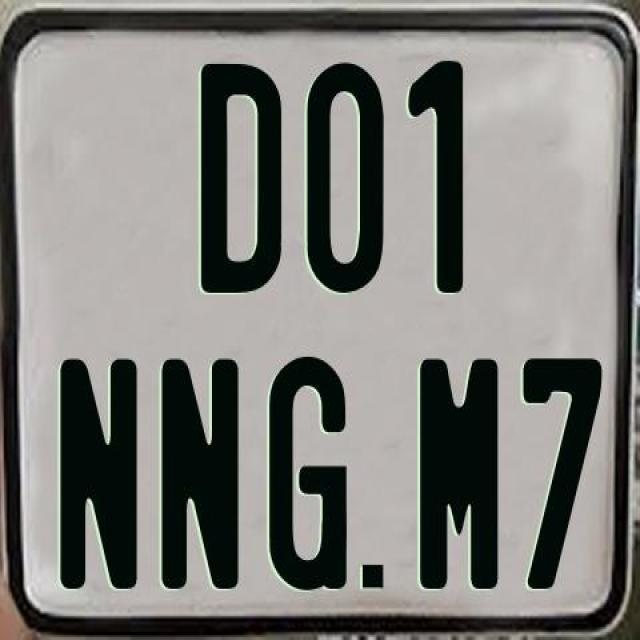0: (306, 63, 390, 294)
1: (407, 60, 462, 302)
7: (520, 357, 608, 596)
D: (200, 61, 286, 290)
G: (268, 352, 351, 592)
M: (416, 356, 496, 594)
N: (160, 357, 246, 597), (58, 355, 142, 587)
